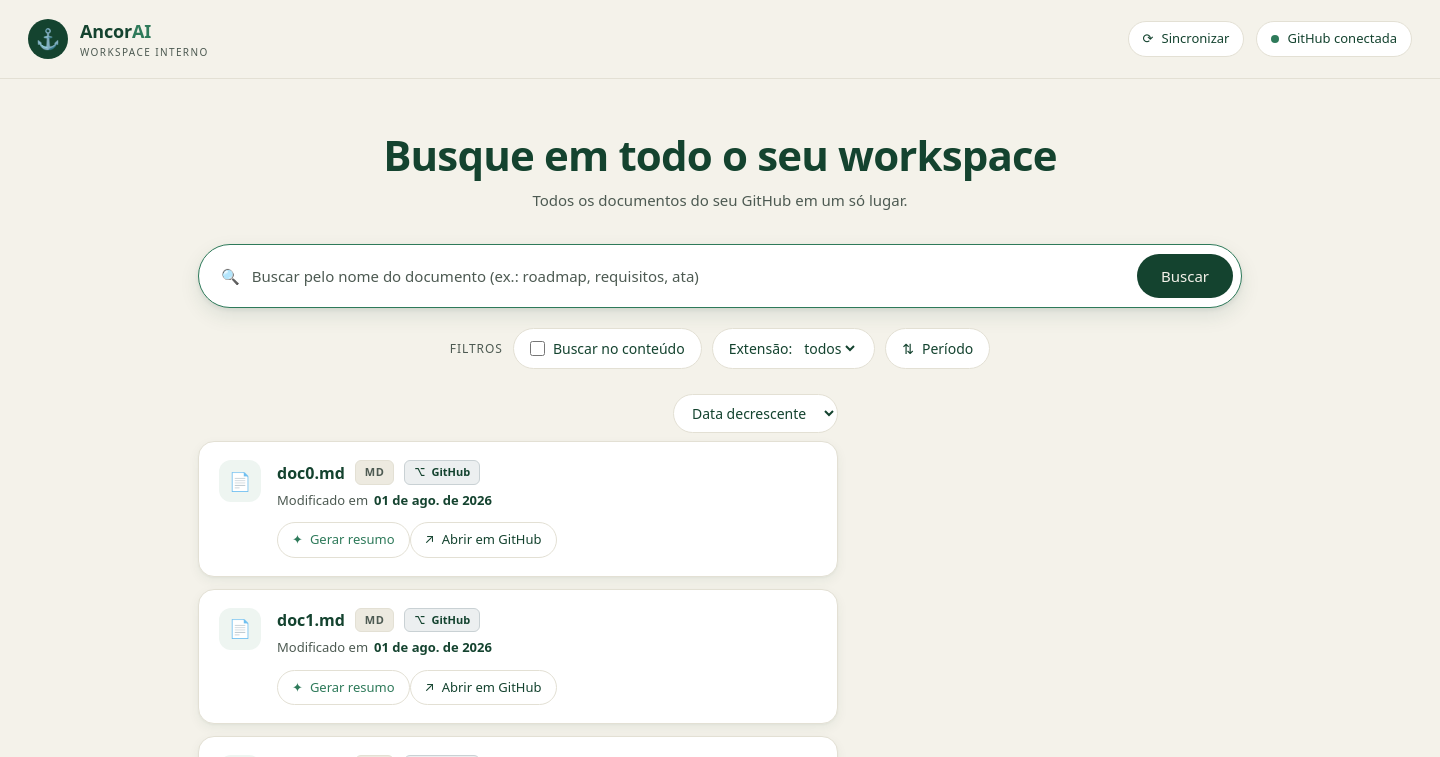
it: contador de resultados › aparece quando há filtro aplicado sem termo de busca
Select ".pdf" in the dropdown labelled "Extensão:" at (829, 349), box [800, 338, 858, 359]
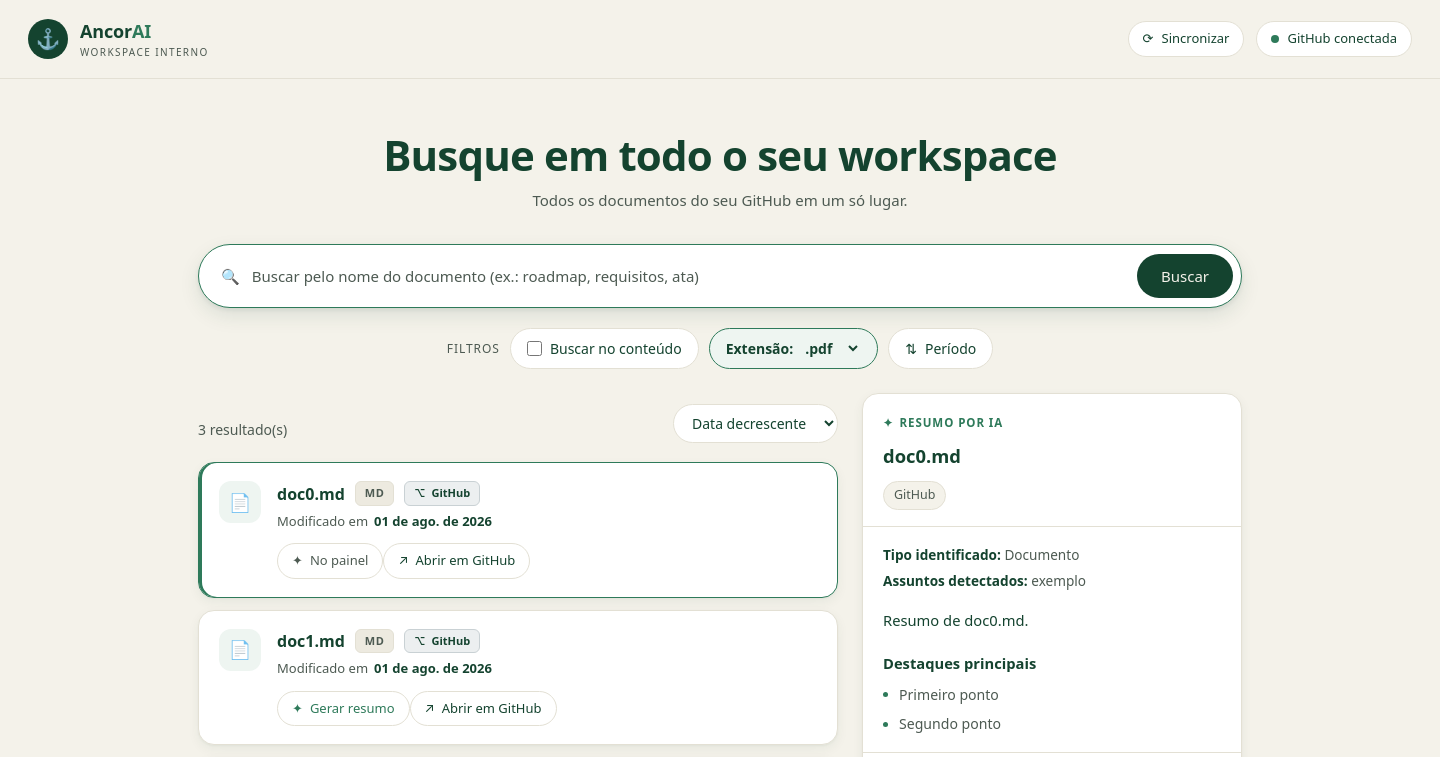
Result: the text "3 resultado(s)" is shown at [198, 419, 287, 440]
